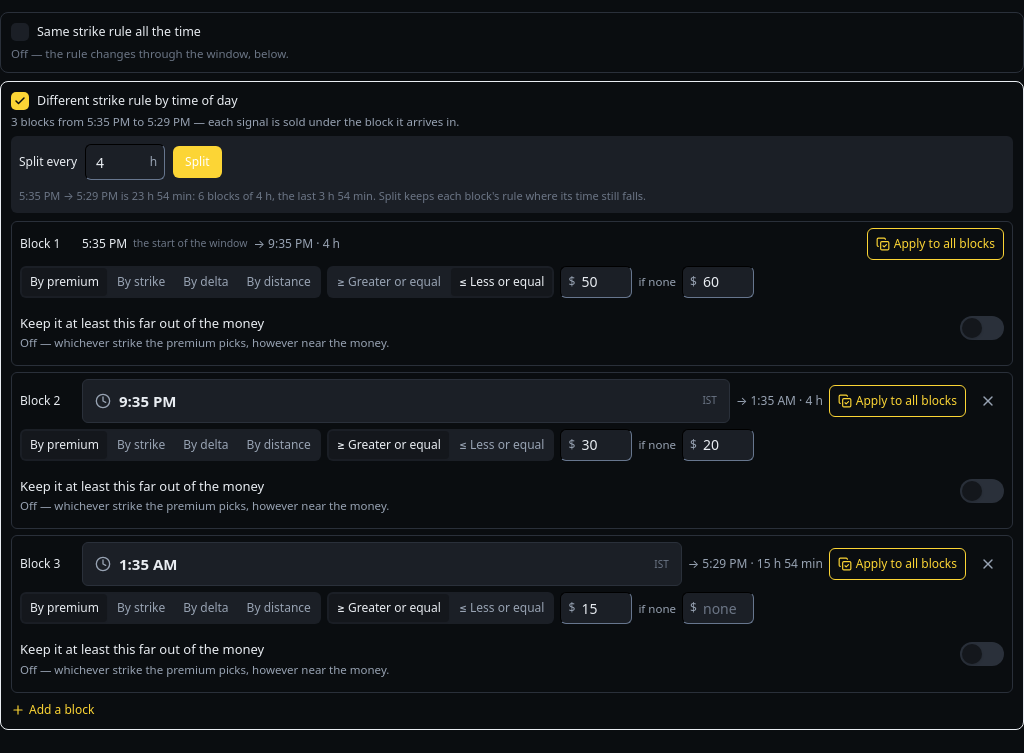
Scenario: StrikeBlocksEditor: apply to all blocks › undo puts every block back as it was
Click the button with aria-label "apply block 2 to all 3 blocks": (897, 401) [829,385,966,417]
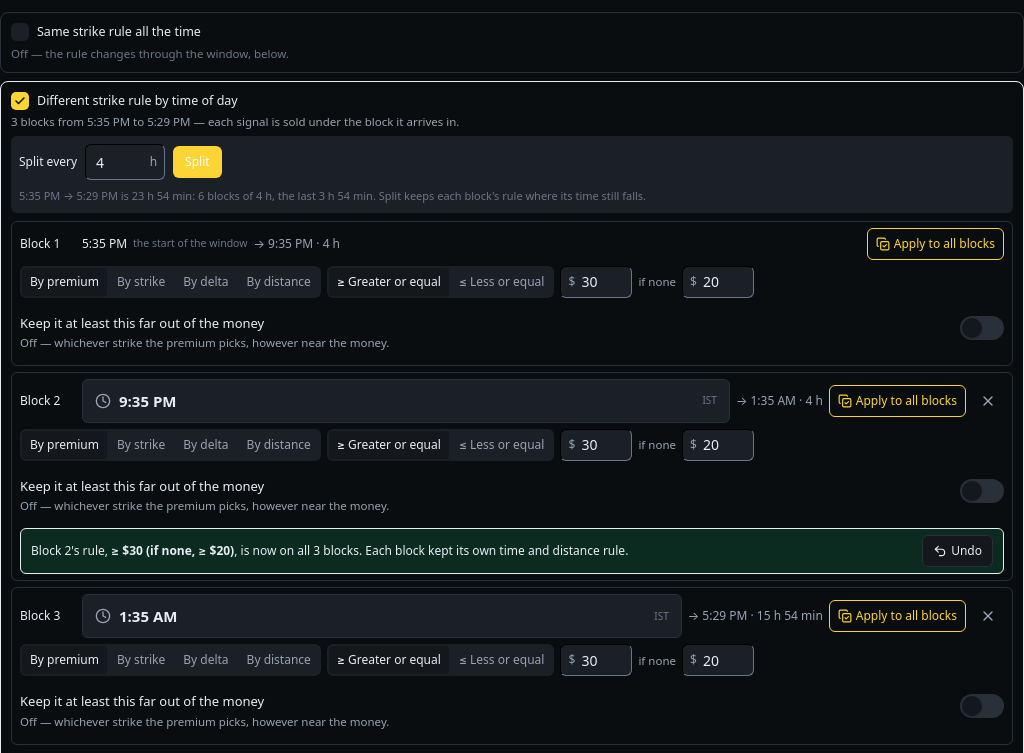
Click the button "Undo": (958, 551) [922,535,993,567]
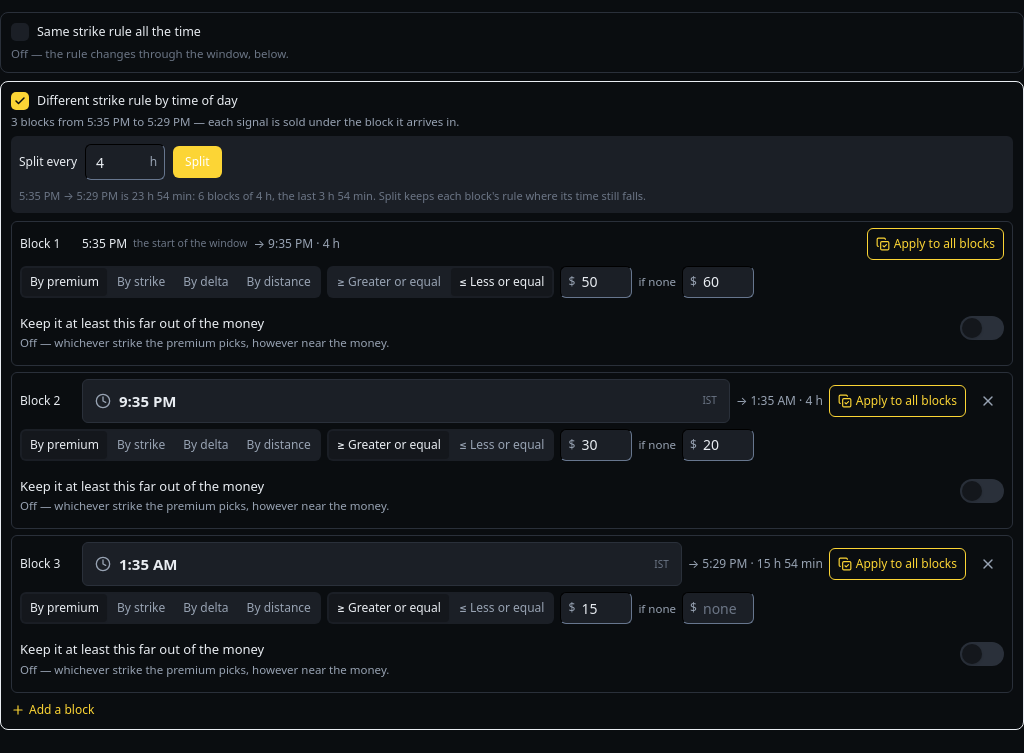
Result: the message "Block 2's rule, ≥ $30 (if none, ≥ $20), is now on all 3 blocks. Each block kept" is gone
